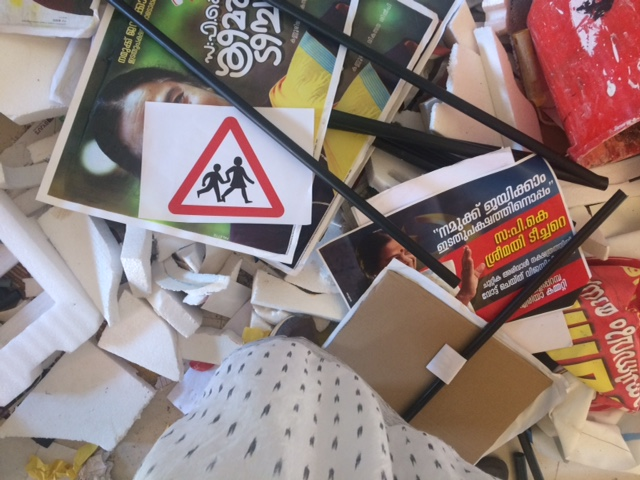sign: (165, 116, 287, 219)
